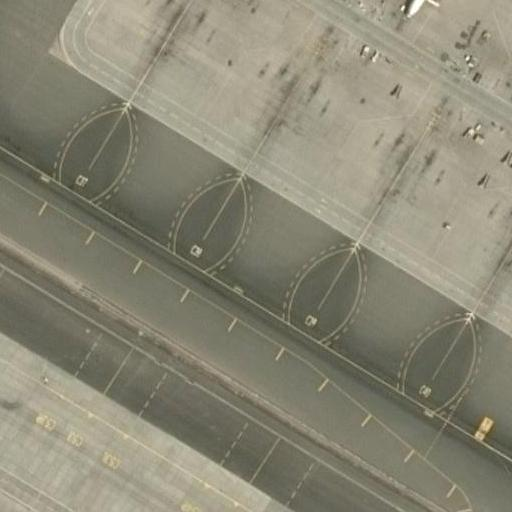Aircraft: (390, 0, 489, 15)
